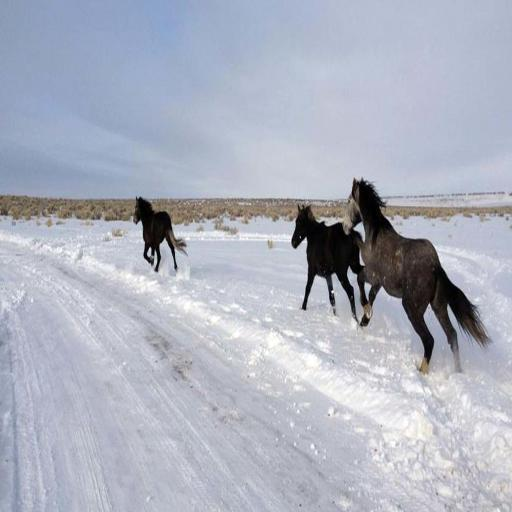horse: (343, 179, 491, 377), (291, 202, 374, 328), (134, 194, 188, 276)
